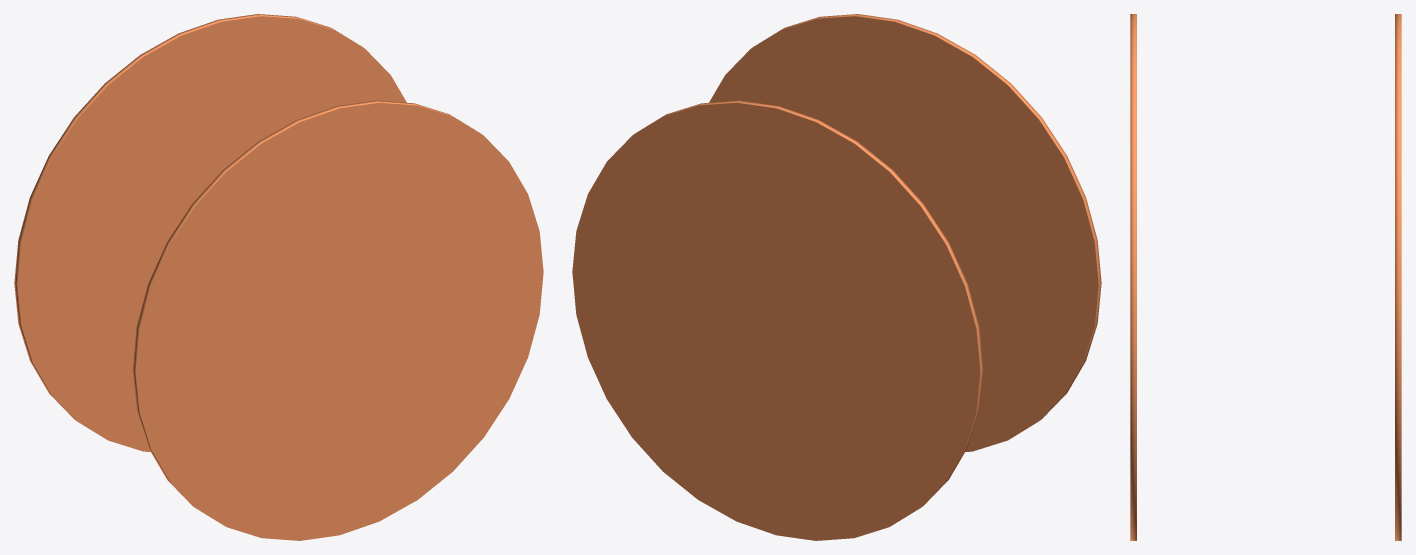
The model's file is MainWheel.dae.
3 renders of one model, left to right at view 1: azimuth 30°, elevation 25°; view 2: azimuth 150°, elevation 25°; view 3: azimuth 270°, elevation 25°, orthographic. The views are drawn at different scales.
Parts seen in each view (by area): view 1: Omnirob_RLwheel_visible, Omnirob_RLwheel_visible_010; view 2: Omnirob_RLwheel_visible_010, Omnirob_RLwheel_visible; view 3: Omnirob_RLwheel_visible, Omnirob_RLwheel_visible_010.
Part boxes in pixels (x1=…): Omnirob_RLwheel_visible: x1=132, y1=100, x2=543, y2=540; Omnirob_RLwheel_visible_010: x1=14, y1=14, x2=406, y2=451; Omnirob_RLwheel_visible_010: x1=572, y1=100, x2=983, y2=540; Omnirob_RLwheel_visible: x1=709, y1=14, x2=1101, y2=451; Omnirob_RLwheel_visible: x1=1130, y1=14, x2=1136, y2=540; Omnirob_RLwheel_visible_010: x1=1395, y1=14, x2=1401, y2=540.
Size of the model in its own units: 0.24 by 0.1235 by 0.24.
